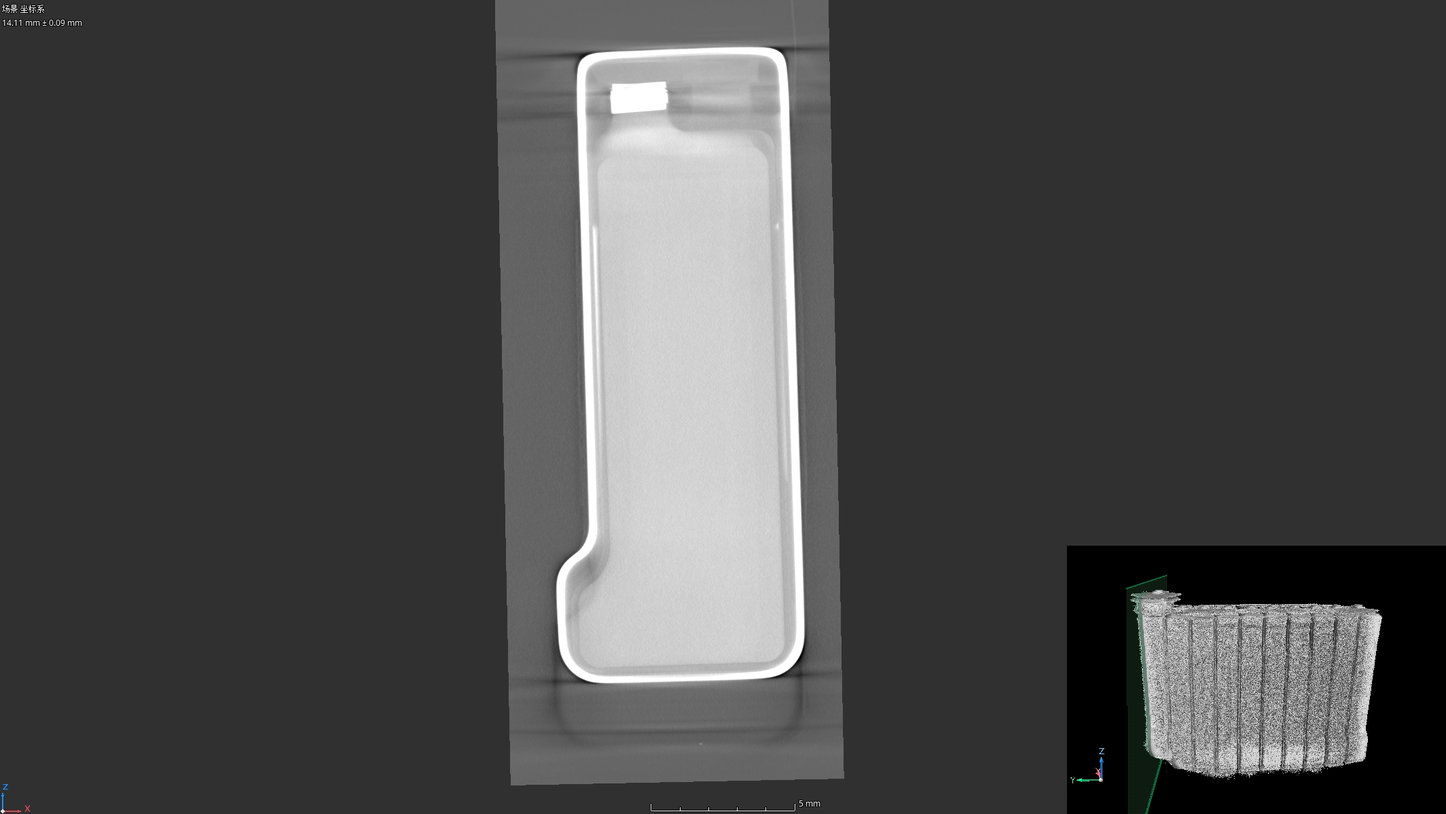light: (773, 218, 783, 232)
